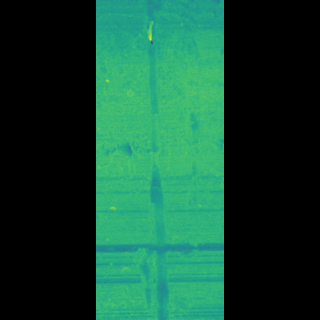Loch: (146, 0, 177, 320), (133, 0, 185, 156)
